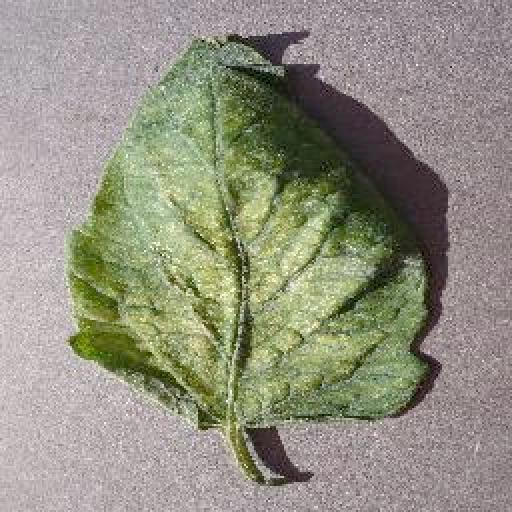disease_tomato: (74, 32, 434, 434)
